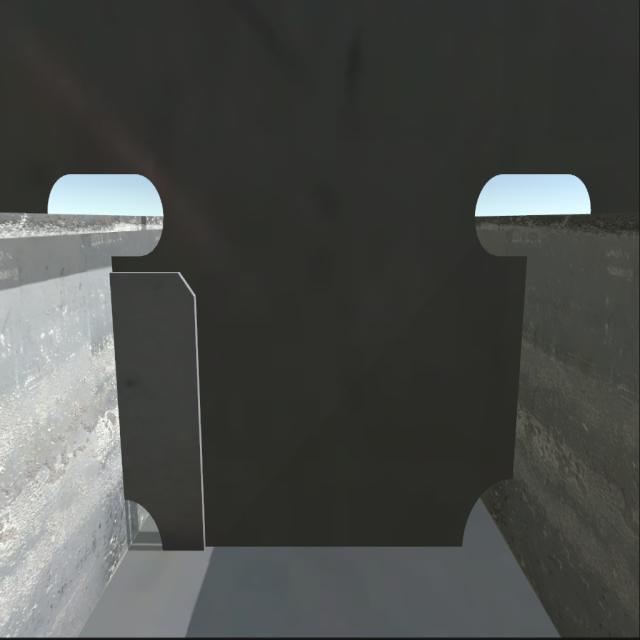fillet_hole: (461, 475, 511, 545), (129, 500, 167, 552)
fillet_yong_jeop_jang: (162, 535, 464, 566)
longi_yong_jeop_jang: (510, 249, 535, 489), (112, 252, 126, 500)
plate_CP03: (106, 270, 205, 544)
